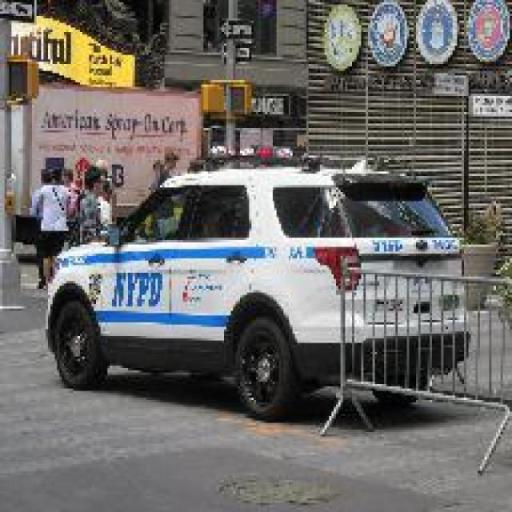Ambulance: (51, 160, 472, 418)
